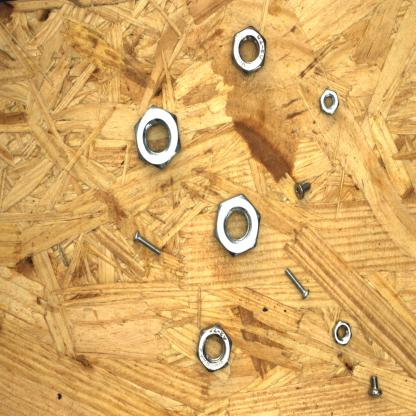screw: (285, 268, 311, 300), (133, 230, 162, 257), (365, 372, 385, 399), (294, 178, 312, 200)
